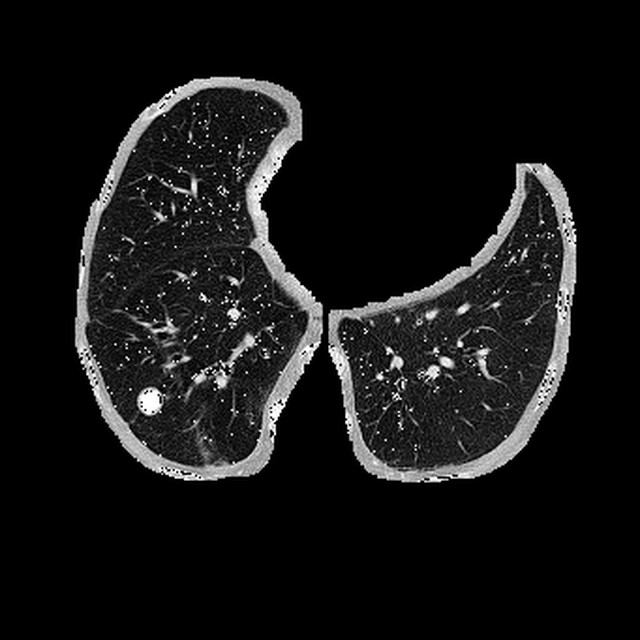PN: (135, 387, 165, 417)
